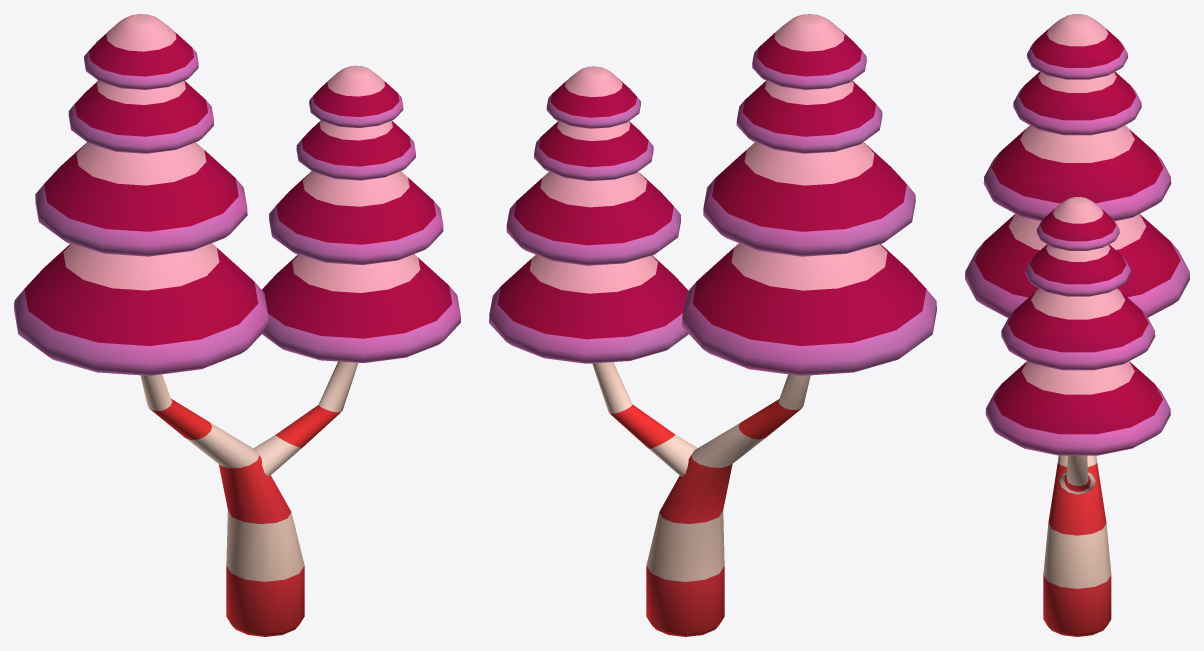
File: cw_tree_20.fbx
3 views of the same model, side by side, from view 1: azimuth 30°, elevation 25°; view 2: azimuth 150°, elevation 25°; view 3: azimuth 270°, elevation 25° (orthographic). The views are drawn at different scales.
Parts seen in each view (by area): view 1: cw_t_20; view 2: cw_t_20; view 3: cw_t_20.
Boxes of the visible parts, x1=… form: cw_t_20: x1=14, y1=14, x2=460, y2=636; cw_t_20: x1=489, y1=14, x2=936, y2=636; cw_t_20: x1=965, y1=14, x2=1189, y2=636.
Size of the model in its own units: 140 by 206 by 75.45.
